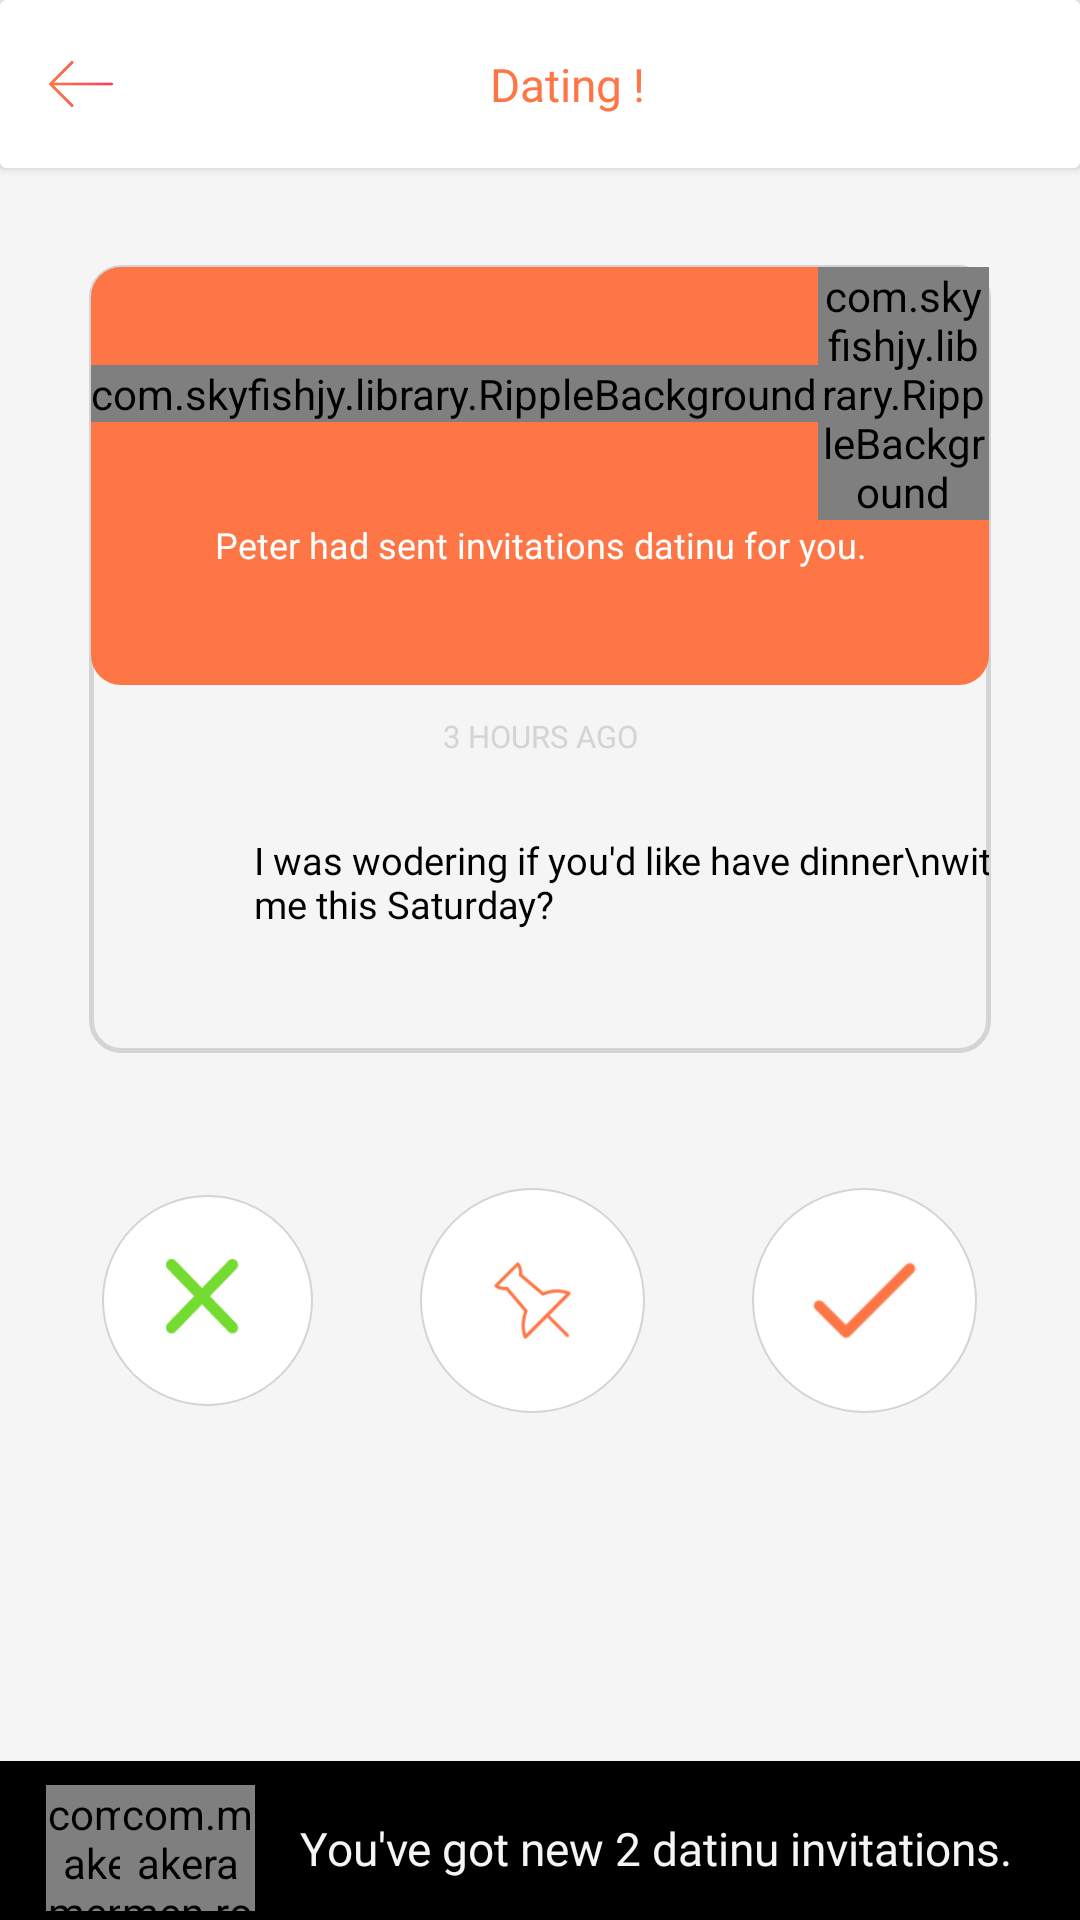

Named icons in this screenshot (1080*1920) and their centers, (x,y):
cancle: (207,1300)
left arrow: (81,84)
pin: (532,1300)
tick: (864,1300)
